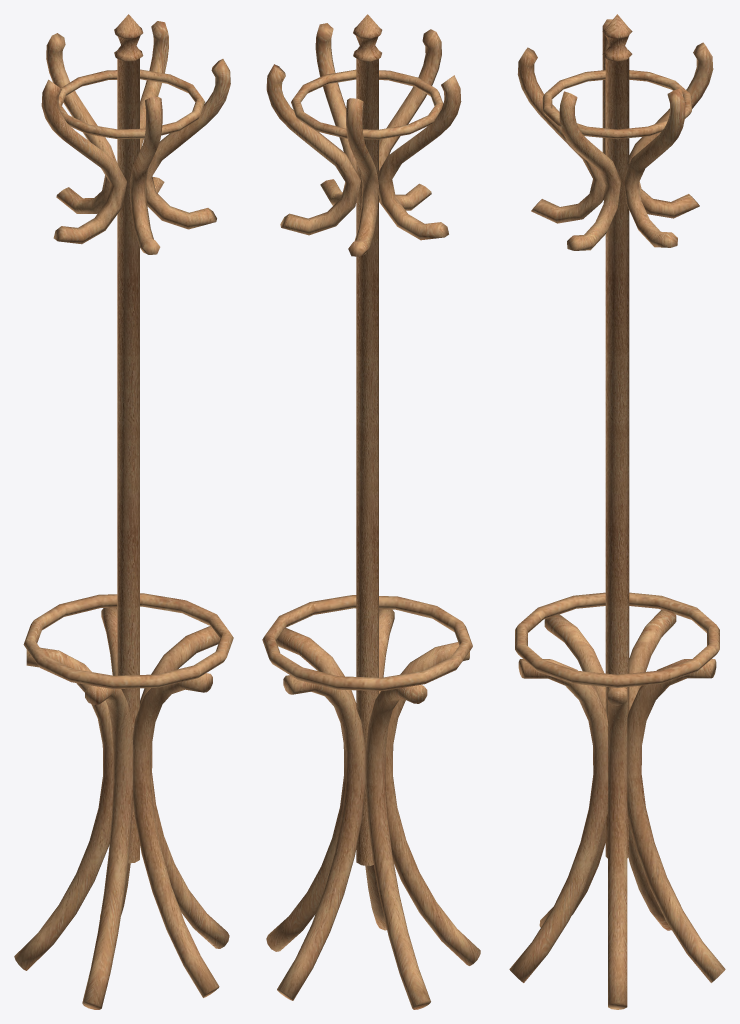
Rendered from coat_hanger.glb.
3 views of the same model, side by side, from view 1: azimuth 30°, elevation 25°; view 2: azimuth 150°, elevation 25°; view 3: azimuth 270°, elevation 25° (orthographic).
Parts seen in each view (by area): view 1: dol, main, BezierCurve, Torus.000, Torus.001; view 2: dol, BezierCurve, main, Torus.000, Torus.001; view 3: dol, main, BezierCurve, Torus.000, Torus.001.
Part boxes in pixels (x1=…): dol: x1=14, y1=607, x2=229, y2=1009; main: x1=114, y1=14, x2=143, y2=863; BezierCurve: x1=41, y1=21, x2=230, y2=254; Torus.000: x1=23, y1=593, x2=233, y2=689; Torus.001: x1=58, y1=69, x2=204, y2=139; dol: x1=266, y1=609, x2=480, y2=1009; BezierCurve: x1=266, y1=23, x2=461, y2=256; main: x1=353, y1=14, x2=382, y2=865; Torus.000: x1=262, y1=595, x2=472, y2=690; Torus.001: x1=291, y1=69, x2=443, y2=139; dol: x1=509, y1=610, x2=725, y2=1009; main: x1=602, y1=14, x2=632, y2=858; BezierCurve: x1=517, y1=19, x2=713, y2=250; Torus.000: x1=515, y1=592, x2=719, y2=687; Torus.001: x1=542, y1=70, x2=691, y2=139.
Size of the model in its own units: 65.02 by 312 by 64.1.
1 material, 1 textured.
